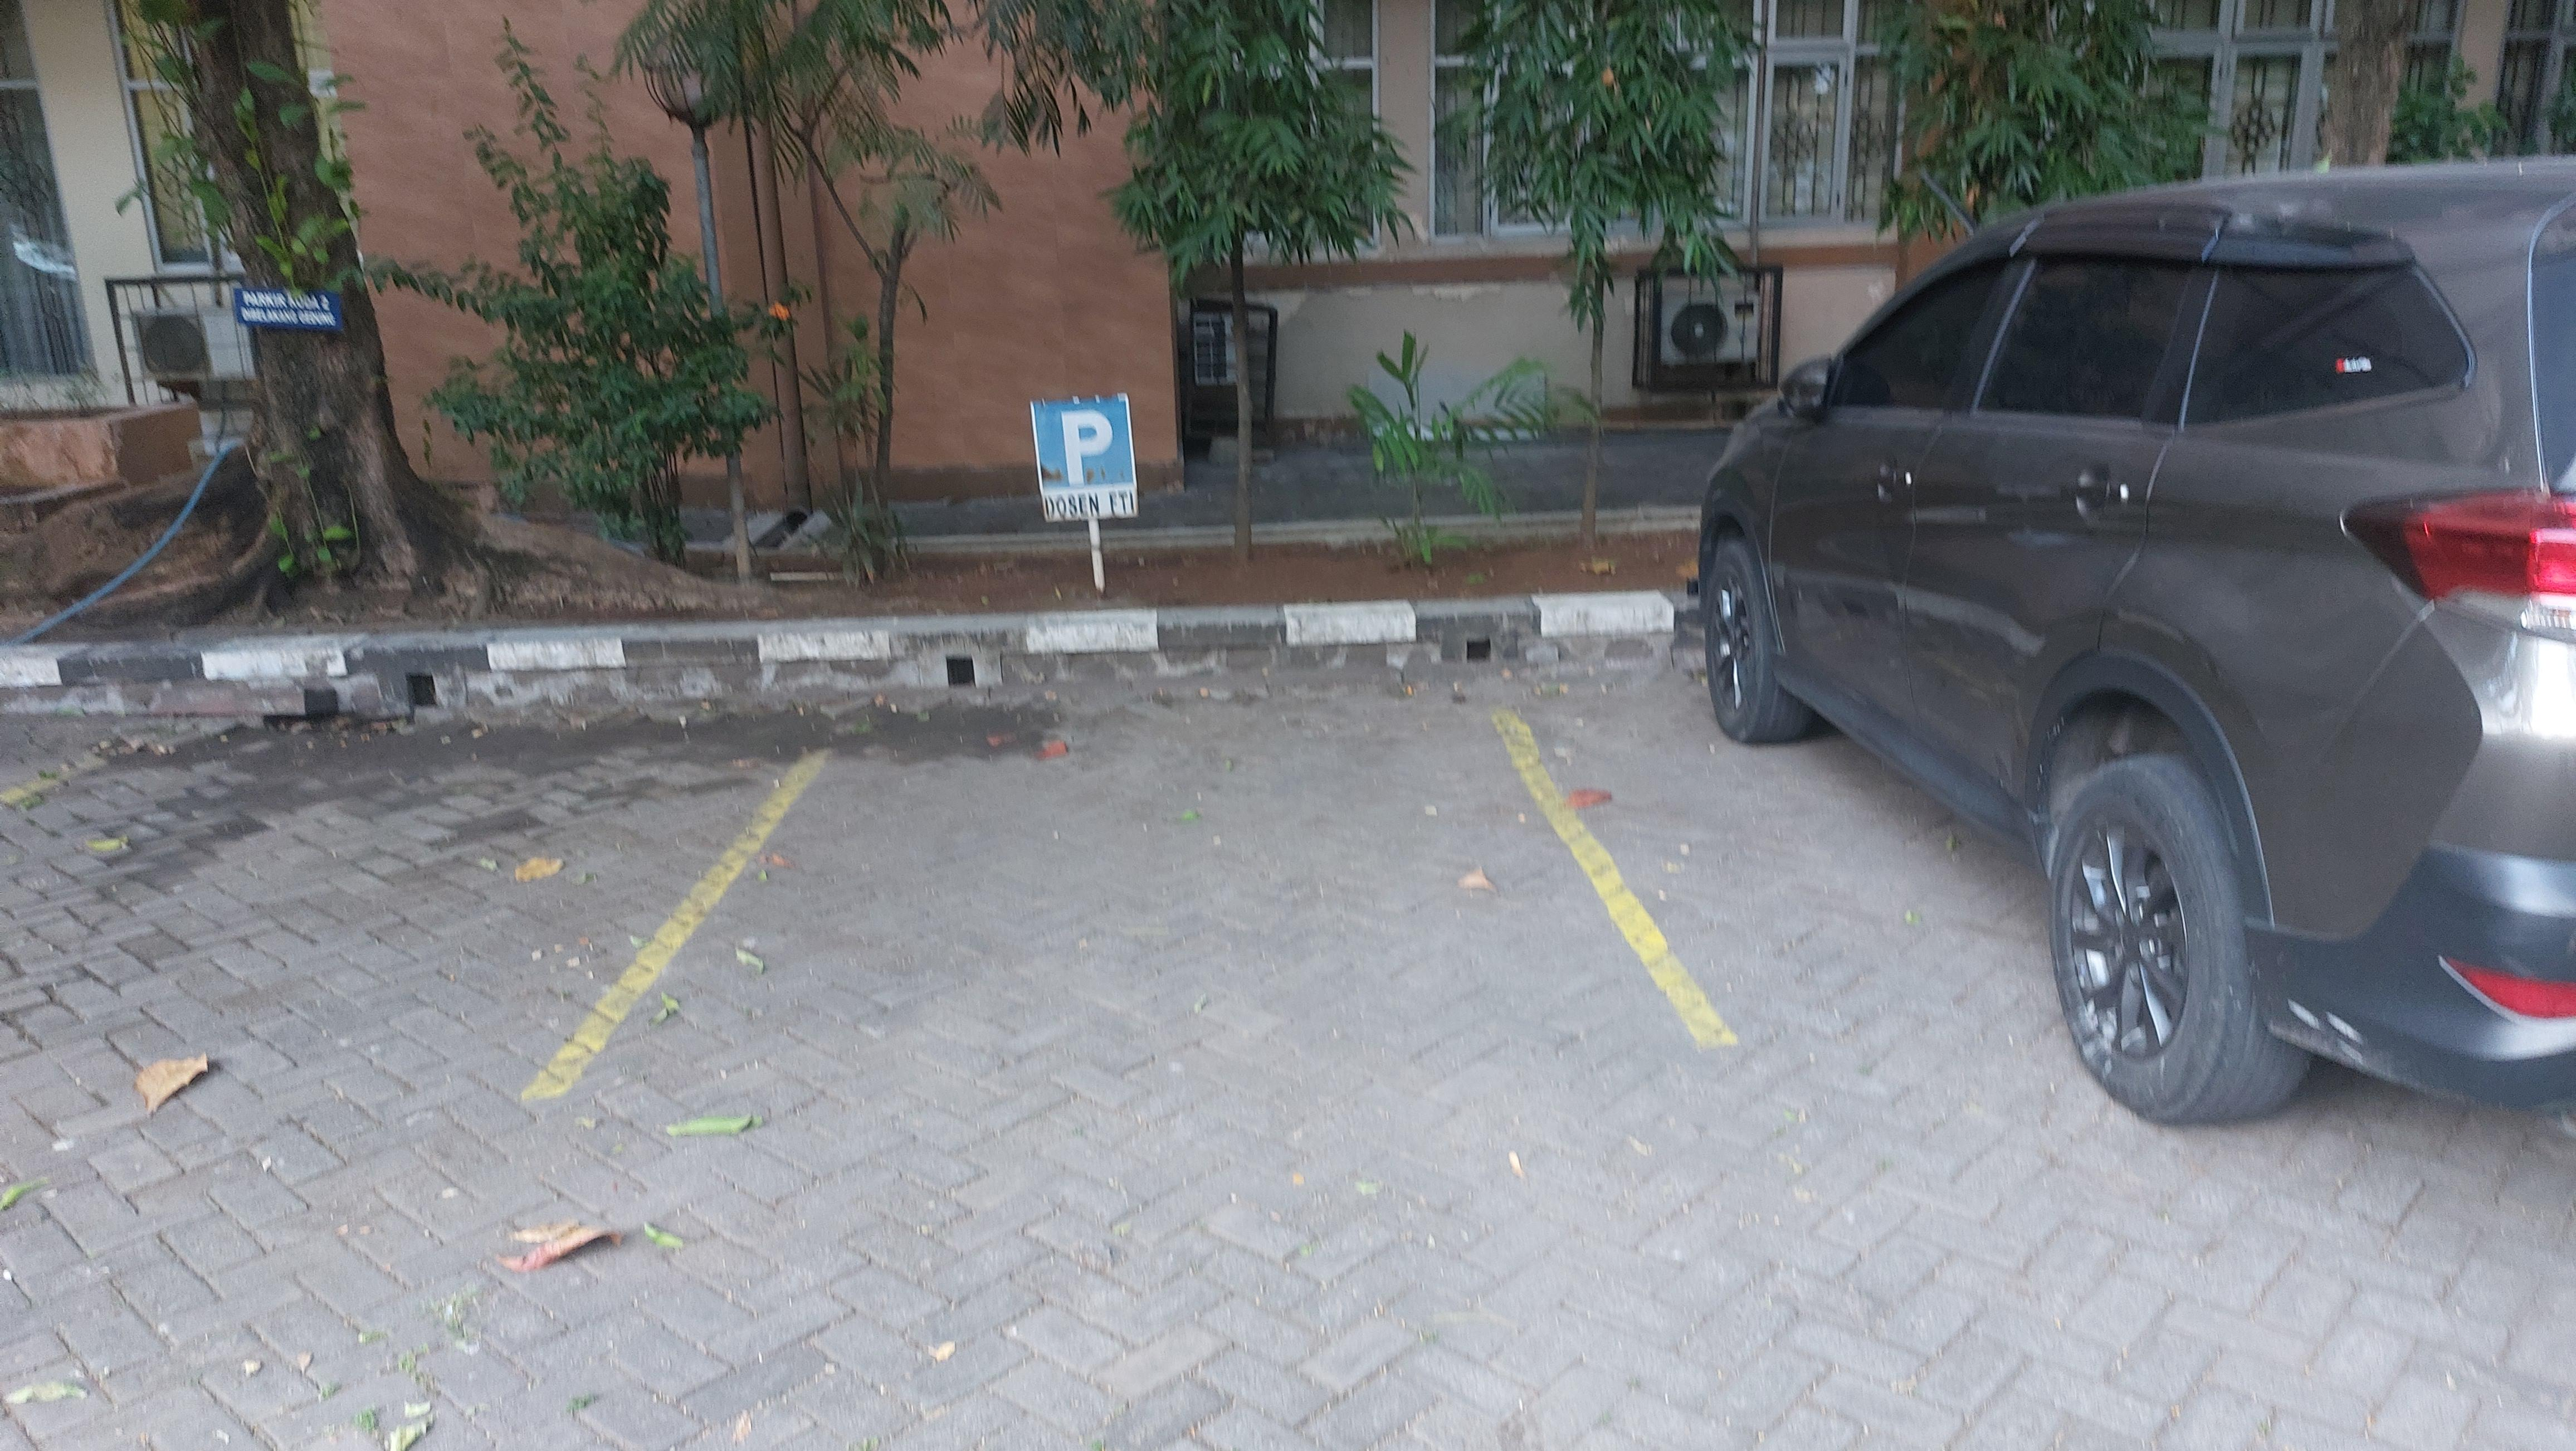empty: (547, 684, 1710, 1092), (0, 699, 866, 1104)
occupied: (1470, 146, 2576, 1157)
